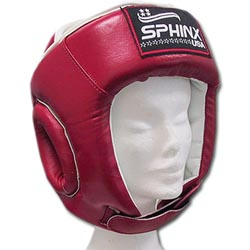helmet: (33, 18, 219, 216)
